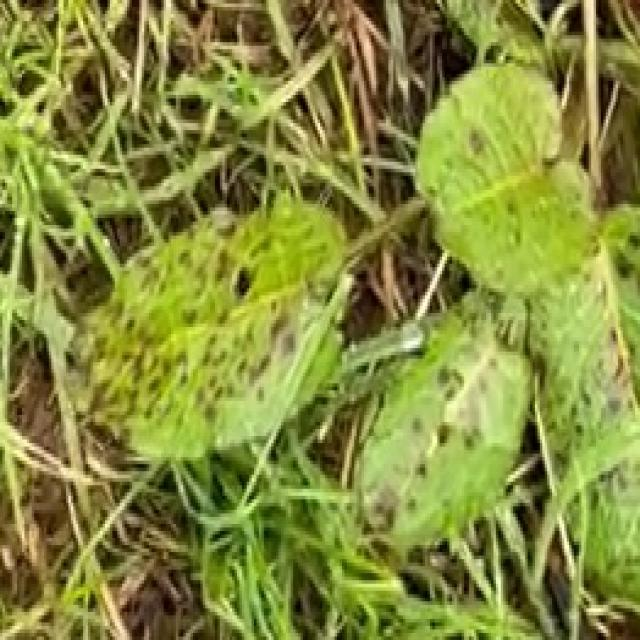organic waste: (58, 74, 640, 552)
